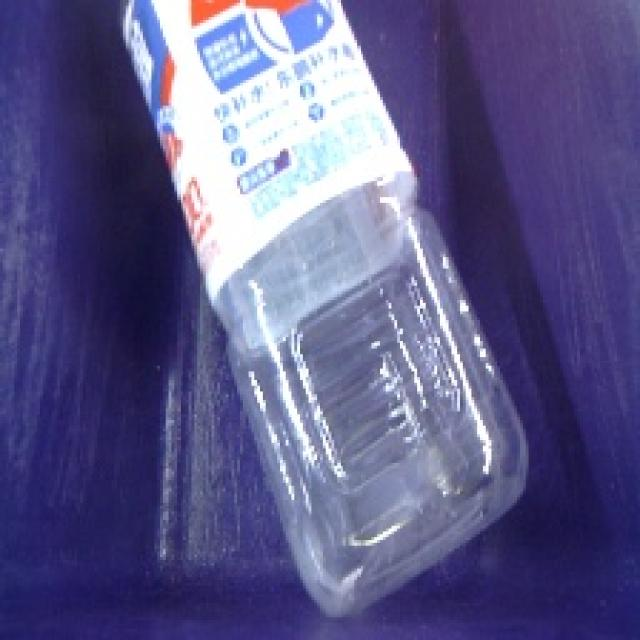plastic: (97, 0, 558, 627), (551, 626, 558, 627)
